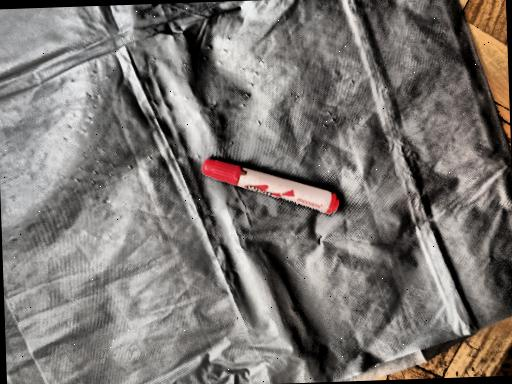marcador rojo: (201, 158, 339, 213)
